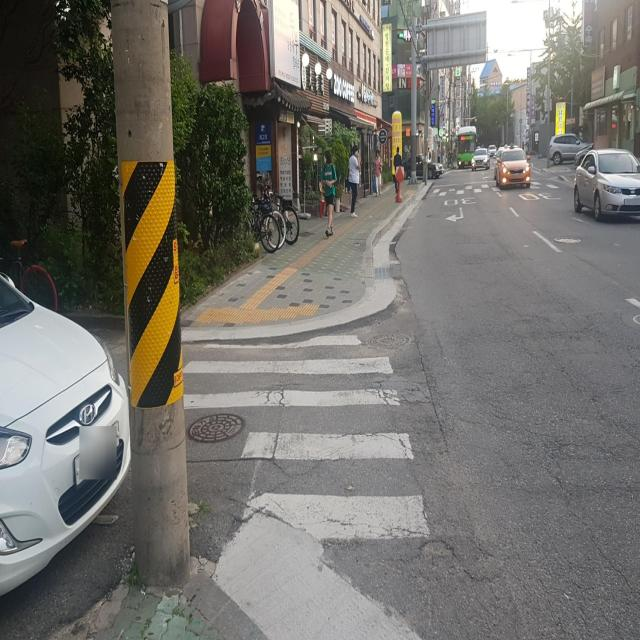횡단보도: (182, 333, 430, 542), (424, 178, 596, 195)
